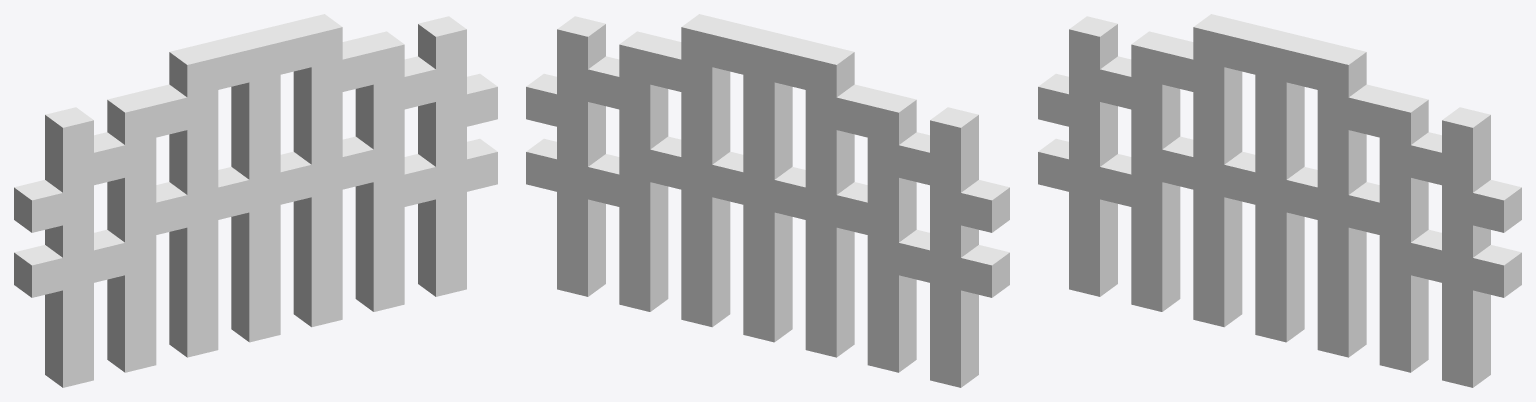
Rendered from fence.obj.
The picture shows the model from 3 angles, left to right: view 1: azimuth 30°, elevation 25°; view 2: azimuth 150°, elevation 25°; view 3: azimuth 330°, elevation 25°; orthographic projection.
Parts seen in each view (by area): view 1: fence; view 2: fence; view 3: fence.
Part boxes in pixels (x1=…): fence: x1=14, y1=14, x2=497, y2=387; fence: x1=526, y1=14, x2=1009, y2=387; fence: x1=1038, y1=14, x2=1521, y2=387.
Size of the model in its own units: 15 by 9 by 1.
Materials: 1 (1 with a texture image).
